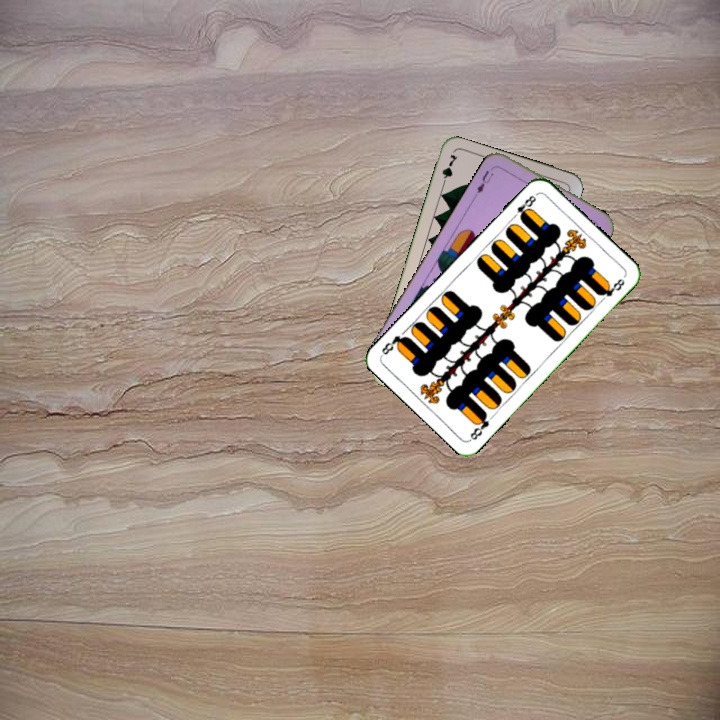E8: (508, 190, 540, 223), (466, 408, 492, 443)
EU: (473, 162, 499, 196)
G7: (437, 150, 460, 190)
